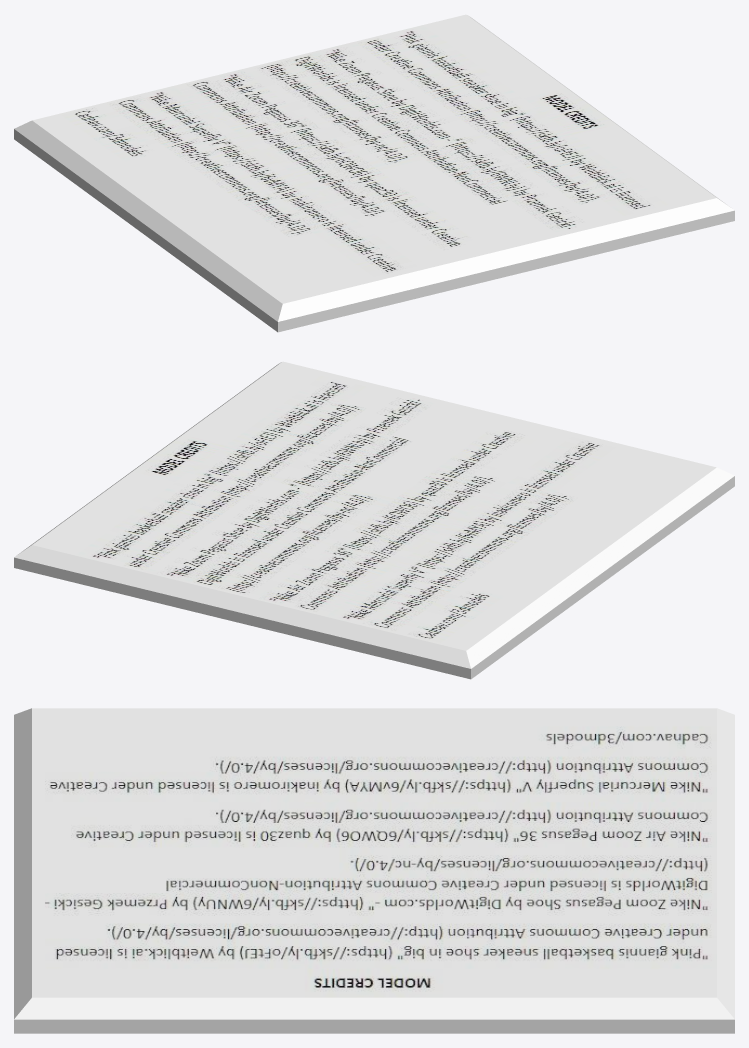
Rendered from CreditsPlaqueV2C1.fbx.
The picture shows the model from 3 angles, top to bottom: view 1: azimuth 30°, elevation 25°; view 2: azimuth 150°, elevation 25°; view 3: azimuth 270°, elevation 25°; orthographic projection. The views are drawn at different scales.
Visible parts, largest first — view 1: Plaque; view 2: Plaque; view 3: Plaque.
Boxes of the visible parts, x1,y1,x2,y2 form: Plaque: [14, 14, 734, 332]; Plaque: [14, 361, 734, 679]; Plaque: [14, 708, 734, 1033].
Bounding box in the file's own units: 400 × 17.5 × 400.
